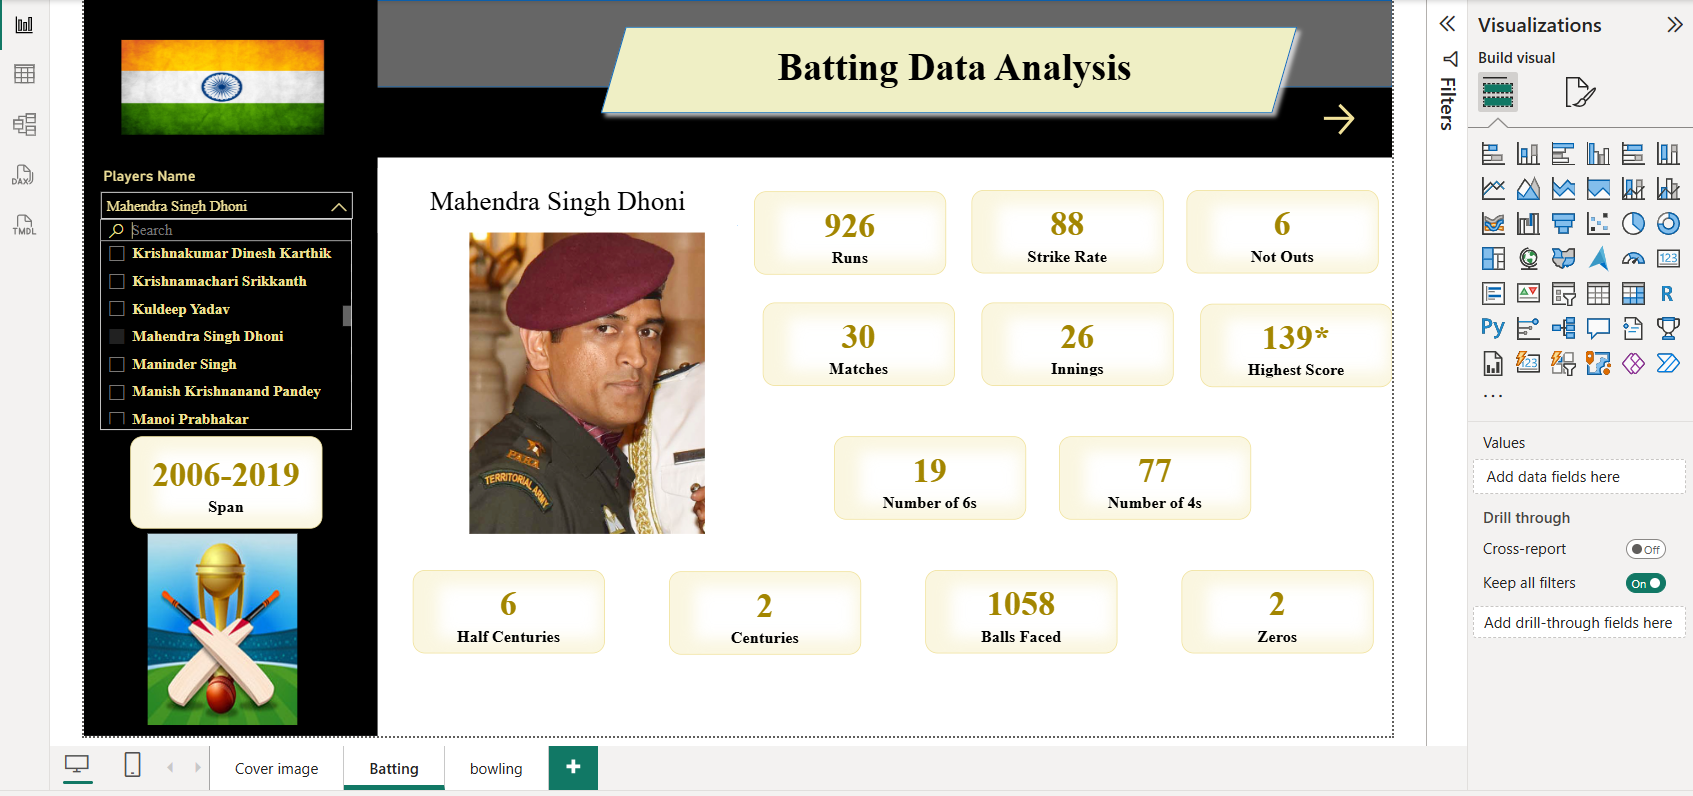

This screenshot's page, from the dashboard's own definition file:
{"tool":"powerbi","page":{"name":"Batting ","canvas":[1280,720],"ordinal":1},"visuals":[{"type":"textbox","box":[0,145.5,287.4,574.7],"z":0},{"type":"tableEx","fields":{"Values":["battingimageurl.imageurlbatting"]},"box":[331.4,187.1,324.1,344.8],"z":1000},{"type":"card","fields":{"Values":["Min(Nametable_batting.Players Name)"]},"box":[287.4,165.1,352.2,62.4],"z":2000},{"type":"card","fields":{"Values":["Min(Cricket Data batting.Span)"]},"box":[45.2,426.8,188.3,90.5],"z":3000},{"type":"shape","box":[0,0,1280.3,85.6],"z":4000},{"type":"shape","box":[0,0,287.4,94.2],"z":5000},{"type":"shape","box":[0,85.6,1280.3,68.5],"z":6000},{"type":"shape","box":[496.5,17.1,699.5,102.7],"z":7000},{"type":"textbox","box":[576,39.1,551.5,57.5],"z":8000},{"type":"image","box":[31.8,34.2,207.9,102.7],"z":9000},{"type":"textbox","box":[697,509,188,211],"z":10000},{"type":"actionButton","box":[102.7,348.5,61.1,57.5],"z":11000},{"type":"actionButton","box":[1206.9,96.6,59.9,40.4],"z":12000},{"type":"card","fields":{"Values":["Sum(Cricket Data batting.NO)"]},"box":[1078.5,185.9,188.3,81.9],"z":13000},{"type":"card","fields":{"Values":["Sum(Cricket Data batting.Inns)"]},"box":[878,295.9,188.3,81.9],"z":14000},{"type":"card","fields":{"Values":["Min(Cricket Data batting.Runs)"]},"box":[655.4,187.1,188.3,81.9],"z":15000},{"type":"card","fields":{"Values":["Sum(Cricket Data batting.Mat)"]},"box":[664,295.9,188.3,81.9],"z":16000},{"type":"card","fields":{"Values":["Sum(Cricket Data batting.SR)"]},"box":[868.2,185.9,188.3,81.9],"z":17000},{"type":"image","box":[57.5,517.3,156.5,196.9],"z":18000},{"type":"card","fields":{"Values":["Min(Cricket Data batting.HS)"]},"box":[1091.7,297.1,188.3,81.9],"z":19000},{"type":"card","fields":{"Values":["Sum(Cricket Data batting.BF)"]},"box":[823,557.6,188.3,81.9],"z":20000},{"type":"card","fields":{"Values":["Sum(Cricket Data batting.4s)"]},"box":[953.8,426.8,188.3,81.9],"z":21000},{"type":"card","fields":{"Values":["Sum(Cricket Data batting.6s)"]},"box":[733.7,426.8,188.3,81.9],"z":22000},{"type":"card","fields":{"Values":["Sum(Cricket Data batting.50)"]},"box":[321.6,557.6,188.3,81.9],"z":23000},{"type":"card","fields":{"Values":["Sum(Cricket Data batting.100)"]},"box":[572.3,558.8,188.3,81.9],"z":24000},{"type":"card","fields":{"Values":["Sum(Cricket Data batting.0)"]},"box":[1073.6,557.6,188.3,81.9],"z":25000},{"type":"slicer","fields":{"Values":["Nametable_batting.Players Name"]},"box":[6.1,159,266.6,77],"z":26000}]}

Visuals, with their boxes on the page's 1280x720 design canvas (x1, y1, x2, y2). These are canvas units, not pixel positions in the 1693x796 screenshot, which may show the page scaled, cropped or inside an application window:
textbox: {"left": 0, "top": 146, "right": 287, "bottom": 720}
tableEx - battingimageurl.imageurlbatting: {"left": 331, "top": 187, "right": 656, "bottom": 532}
card - Min(Nametable_batting.Players Name): {"left": 287, "top": 165, "right": 640, "bottom": 228}
card - Min(Cricket Data batting.Span): {"left": 45, "top": 427, "right": 234, "bottom": 517}
shape: {"left": 0, "top": 0, "right": 1280, "bottom": 86}
shape: {"left": 0, "top": 0, "right": 287, "bottom": 94}
shape: {"left": 0, "top": 86, "right": 1280, "bottom": 154}
shape: {"left": 496, "top": 17, "right": 1196, "bottom": 120}
textbox: {"left": 576, "top": 39, "right": 1128, "bottom": 97}
image: {"left": 32, "top": 34, "right": 240, "bottom": 137}
textbox: {"left": 697, "top": 509, "right": 885, "bottom": 720}
actionButton: {"left": 103, "top": 348, "right": 164, "bottom": 406}
actionButton: {"left": 1207, "top": 97, "right": 1267, "bottom": 137}
card - Sum(Cricket Data batting.NO): {"left": 1078, "top": 186, "right": 1267, "bottom": 268}
card - Sum(Cricket Data batting.Inns): {"left": 878, "top": 296, "right": 1066, "bottom": 378}
card - Min(Cricket Data batting.Runs): {"left": 655, "top": 187, "right": 844, "bottom": 269}
card - Sum(Cricket Data batting.Mat): {"left": 664, "top": 296, "right": 852, "bottom": 378}
card - Sum(Cricket Data batting.SR): {"left": 868, "top": 186, "right": 1056, "bottom": 268}
image: {"left": 58, "top": 517, "right": 214, "bottom": 714}
card - Min(Cricket Data batting.HS): {"left": 1092, "top": 297, "right": 1280, "bottom": 379}
card - Sum(Cricket Data batting.BF): {"left": 823, "top": 558, "right": 1011, "bottom": 640}
card - Sum(Cricket Data batting.4s): {"left": 954, "top": 427, "right": 1142, "bottom": 509}
card - Sum(Cricket Data batting.6s): {"left": 734, "top": 427, "right": 922, "bottom": 509}
card - Sum(Cricket Data batting.50): {"left": 322, "top": 558, "right": 510, "bottom": 640}
card - Sum(Cricket Data batting.100): {"left": 572, "top": 559, "right": 761, "bottom": 641}
card - Sum(Cricket Data batting.0): {"left": 1074, "top": 558, "right": 1262, "bottom": 640}
slicer - Nametable_batting.Players Name: {"left": 6, "top": 159, "right": 273, "bottom": 236}
